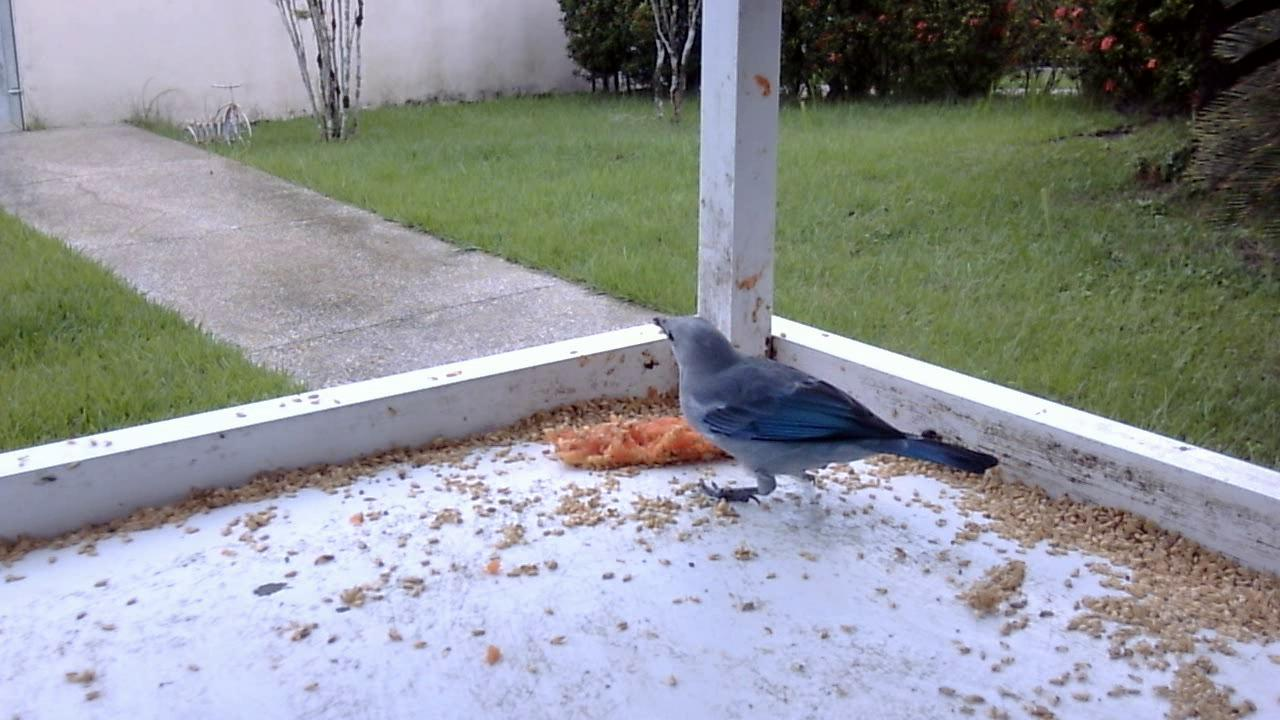sanhaco_da_amazonia: (646, 305, 999, 519)
